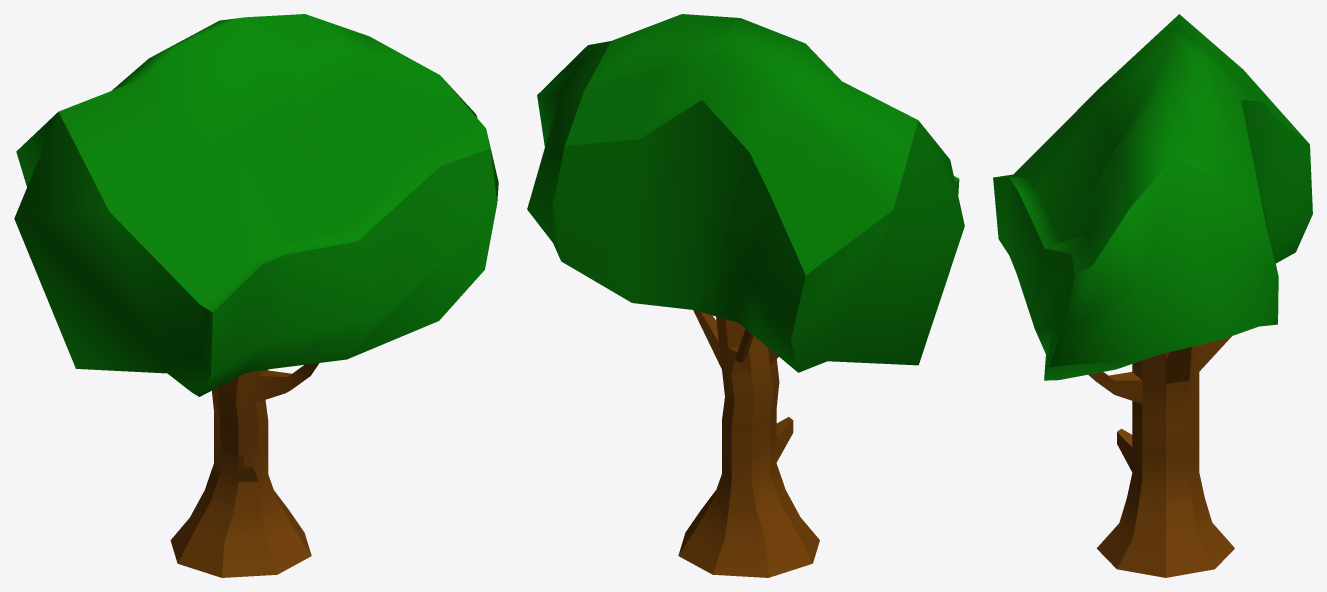
File: regulartrees.fbx
3 renders of one model, left to right at view 1: azimuth 30°, elevation 25°; view 2: azimuth 150°, elevation 25°; view 3: azimuth 270°, elevation 25°, orthographic. The views are drawn at different scales.
Parts seen in each view (by area): view 1: pCube2; view 2: pCube2; view 3: pCube2.
Part boxes in pixels (x1,y1,x2,y2): pCube2: [14, 14, 498, 577]; pCube2: [527, 14, 964, 577]; pCube2: [993, 14, 1312, 577].
Size of the model in its own units: 14.61 by 16.6 by 9.55.
